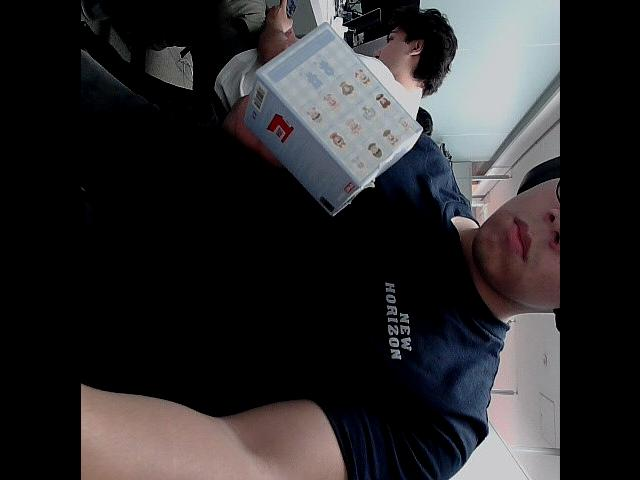Blind_box: (236, 25, 424, 215)
